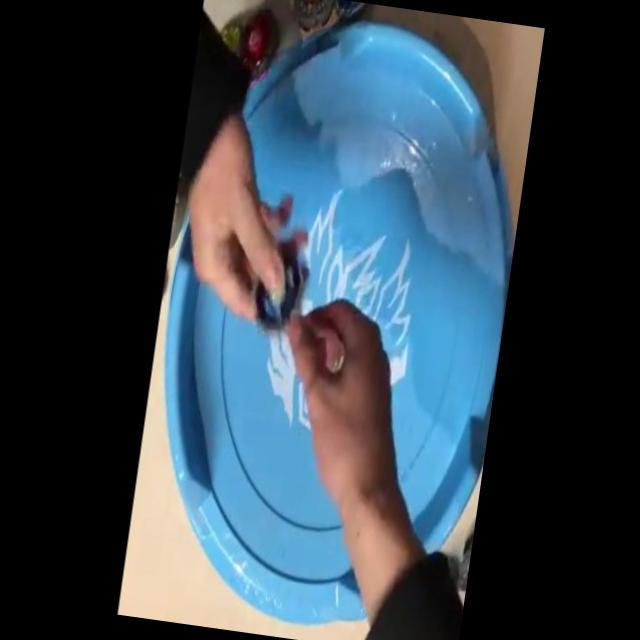Beyblade: (249, 244, 309, 336), (236, 8, 282, 76)
